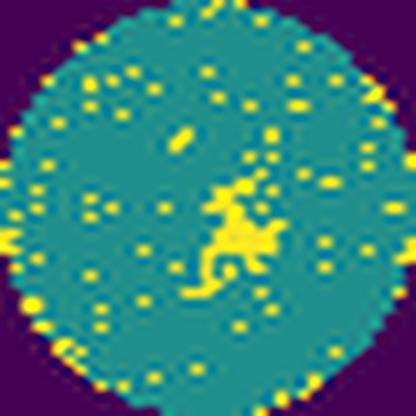Loc: (182, 171, 285, 304)
